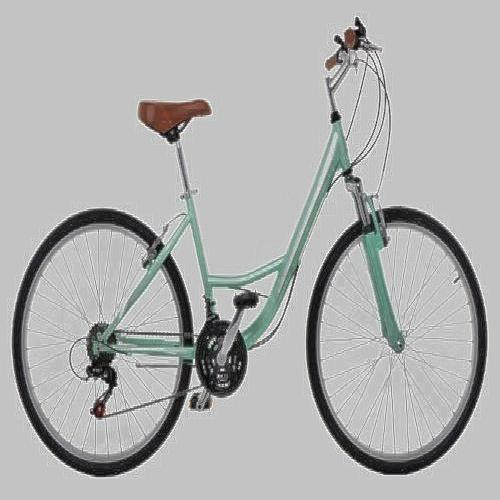bicycle: (31, 58, 481, 459)
